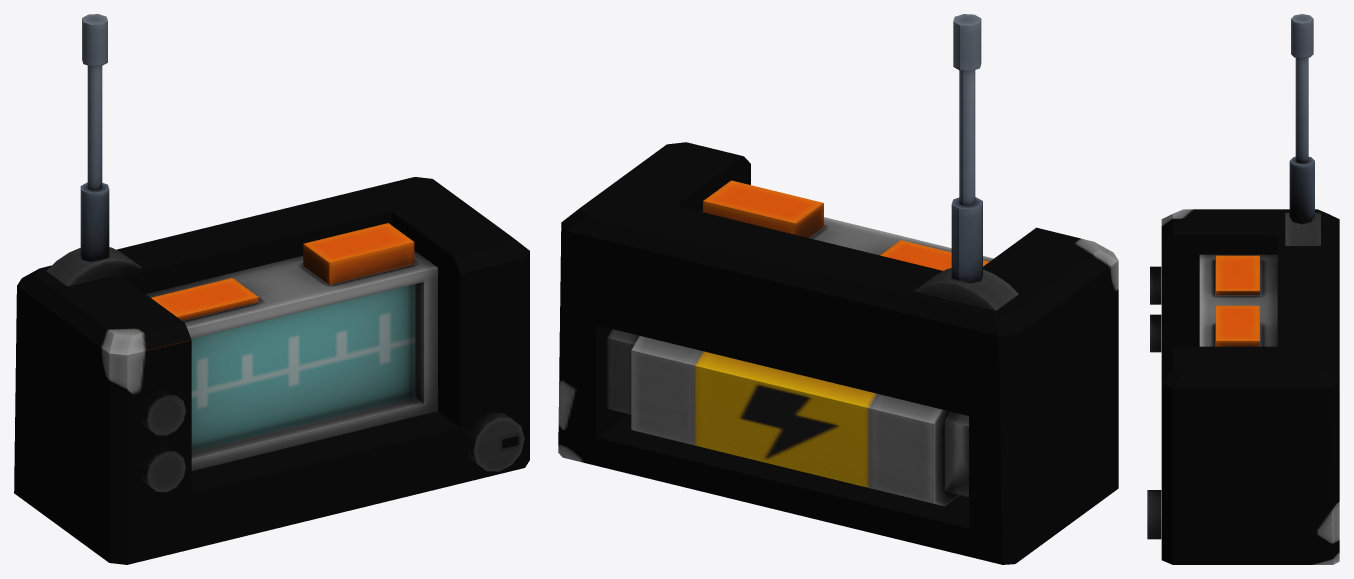
The model's file is obj_interactive_small_radio_on.fbx.
3 views of the same model, side by side, from view 1: azimuth 30°, elevation 25°; view 2: azimuth 150°, elevation 25°; view 3: azimuth 270°, elevation 25° (orthographic). The views are drawn at different scales.
Parts seen in each view (by area): view 1: obj_interactive_radio_on_lod0; view 2: obj_interactive_radio_on_lod0; view 3: obj_interactive_radio_on_lod0.
Boxes of the visible parts, box(x1,y1,x2,y2) form: obj_interactive_radio_on_lod0: box(14, 14, 529, 564); obj_interactive_radio_on_lod0: box(558, 14, 1118, 564); obj_interactive_radio_on_lod0: box(1147, 14, 1339, 564).
Bounding box in the file's own units: 2 × 2.15 × 0.9368.
